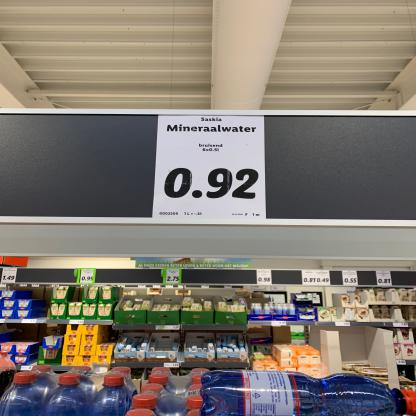prtg: (153, 116, 267, 220)
